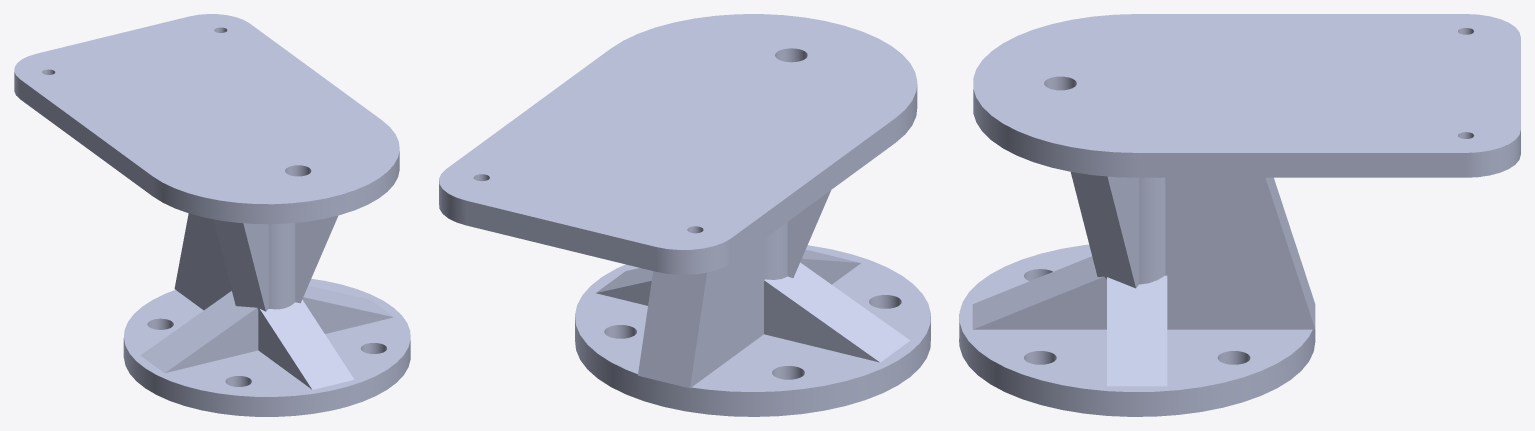
Rendered from adaptor_v6.glb.
The picture shows the model from 3 angles, left to right: view 1: azimuth 30°, elevation 25°; view 2: azimuth 150°, elevation 25°; view 3: azimuth 270°, elevation 25°; orthographic projection. The views are drawn at different scales.
Visible parts, largest first — view 1: adaptor_v6; view 2: adaptor_v6; view 3: adaptor_v6.
Boxes of the visible parts, <box> form: adaptor_v6: <box>14,14,410,416</box>; adaptor_v6: <box>439,14,930,416</box>; adaptor_v6: <box>959,14,1520,416</box>.
Size of the model in its own units: 0.065 by 0.052 by 0.1025.
